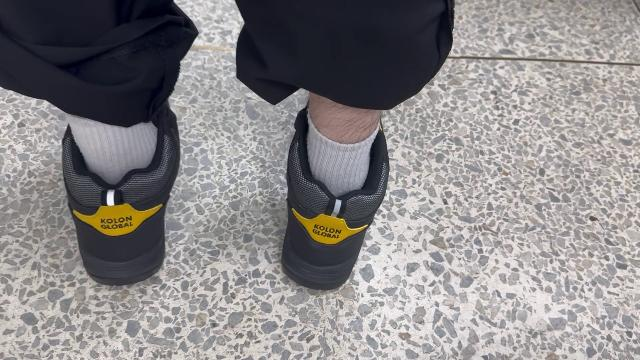shoe_worn: (54, 103, 185, 292), (280, 103, 398, 294)
